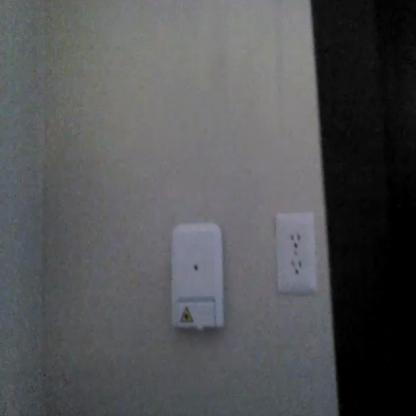OUTLET: (276, 212, 318, 292)
